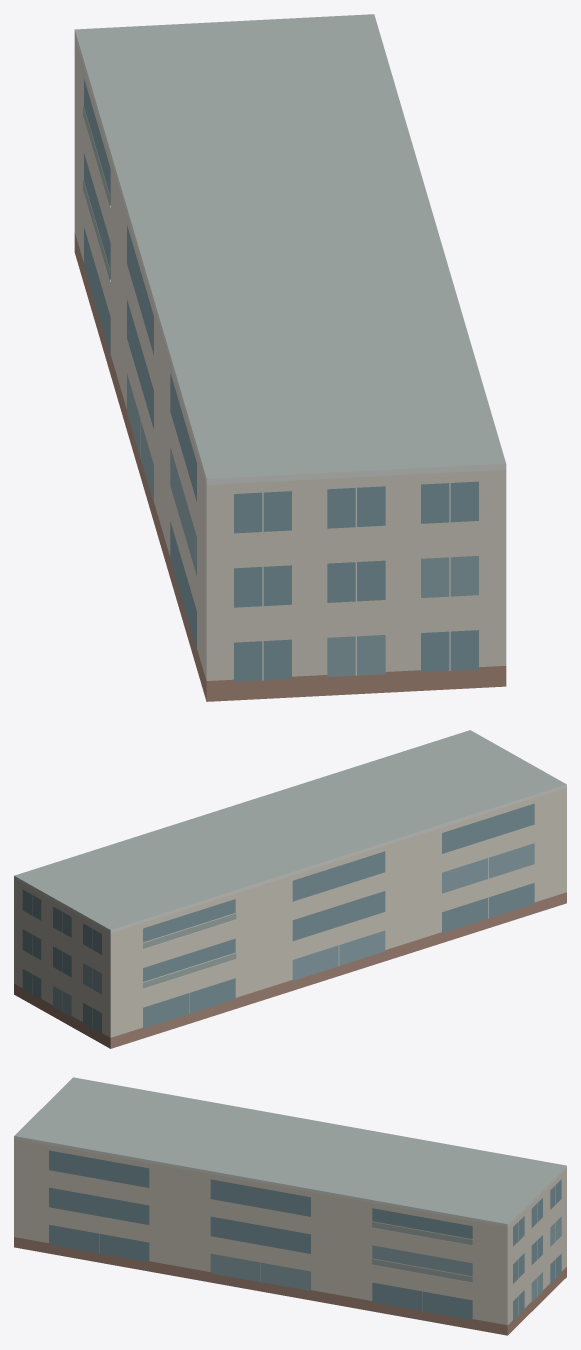
Rendered from survey-upis-33014010.glb.
3 renders of one model, top to bottom at view 1: azimuth 30°, elevation 25°; view 2: azimuth 150°, elevation 25°; view 3: azimuth 270°, elevation 25°, orthographic. The views are drawn at different scales.
Parts seen in each view (by area): view 1: survey-upis-33014010.tmp; view 2: survey-upis-33014010.tmp; view 3: survey-upis-33014010.tmp.
Part boxes in pixels (<box>): survey-upis-33014010.tmp: <box>74,14,506,701</box>; survey-upis-33014010.tmp: <box>14,730,566,1048</box>; survey-upis-33014010.tmp: <box>14,1077,566,1335</box>.
Bounding box in the file's own units: 25.89 × 9.15 × 41.17.
